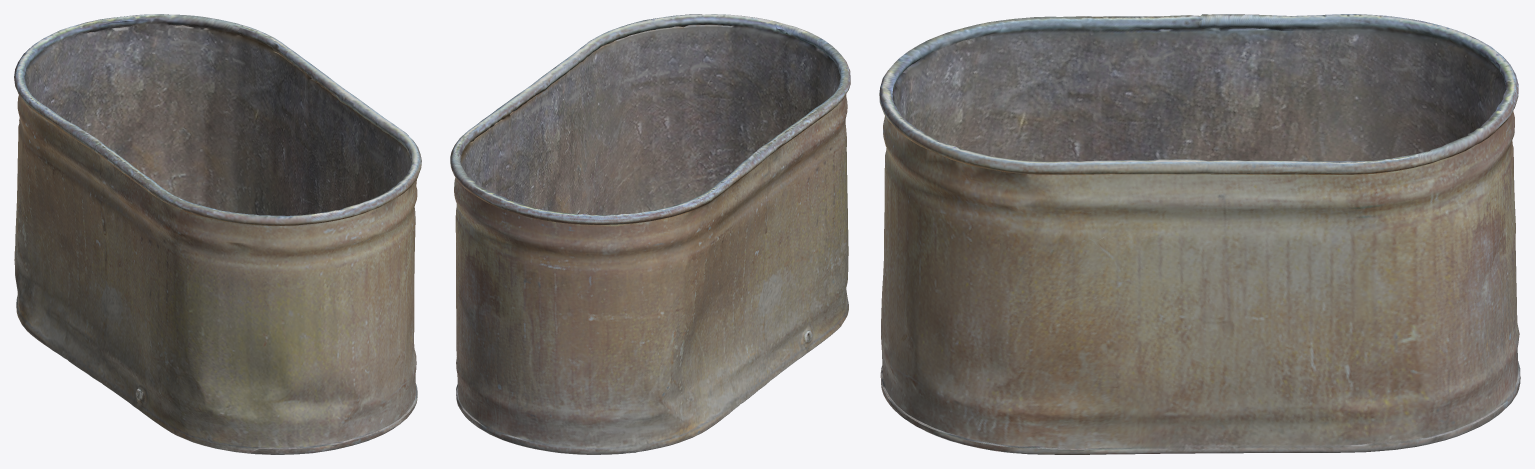
Rendered from MOD_MetalTrough.fbx.
The picture shows the model from 3 angles, left to right: view 1: azimuth 30°, elevation 25°; view 2: azimuth 150°, elevation 25°; view 3: azimuth 270°, elevation 25°; orthographic projection. The views are drawn at different scales.
Parts seen in each view (by area): view 1: MOD_MetalTrough; view 2: MOD_MetalTrough; view 3: MOD_MetalTrough.
Part boxes in pixels (x1,y1,x2,y2): MOD_MetalTrough: (14, 14, 421, 454); MOD_MetalTrough: (450, 14, 850, 454); MOD_MetalTrough: (879, 14, 1520, 454).
Bounding box in the file's own units: 77.1 × 69.82 × 137.
